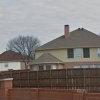Chimney: (59, 17, 73, 43)
